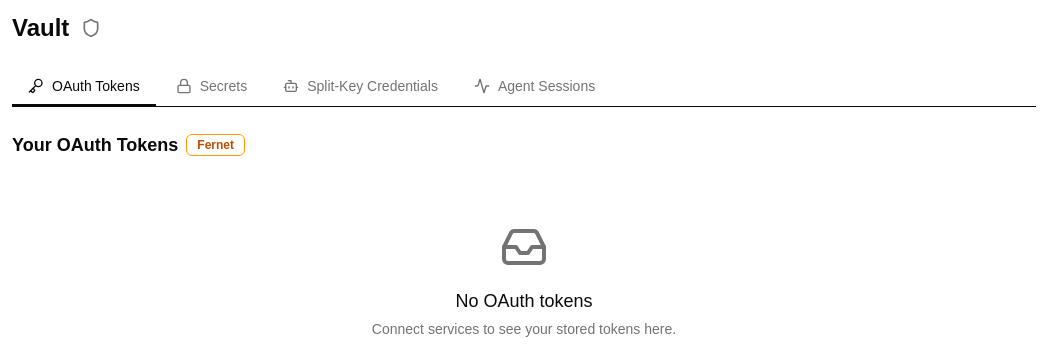
Vault tabs — Phase 3 › Agent Sessions tab shows View in Fleet link
Step 1. Click the button "Agent Sessions" → click(535, 87), box top-left (458, 68), bottom-right (611, 106)
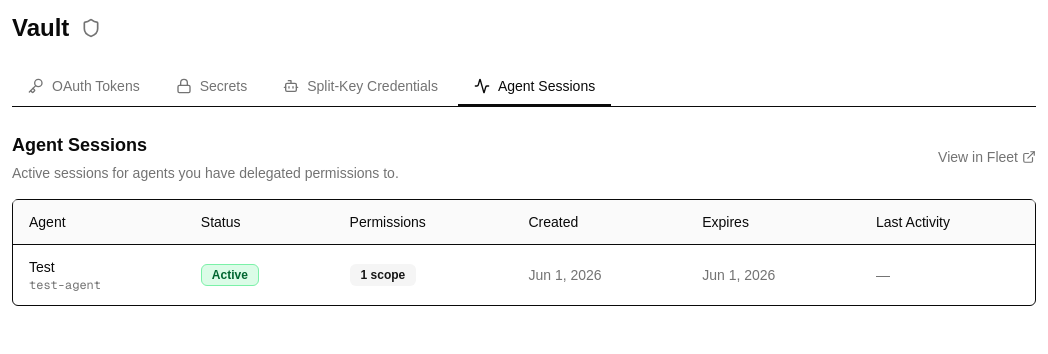
Expected: the link "View in Fleet" is shown, top-left (938, 147), bottom-right (1036, 167)
